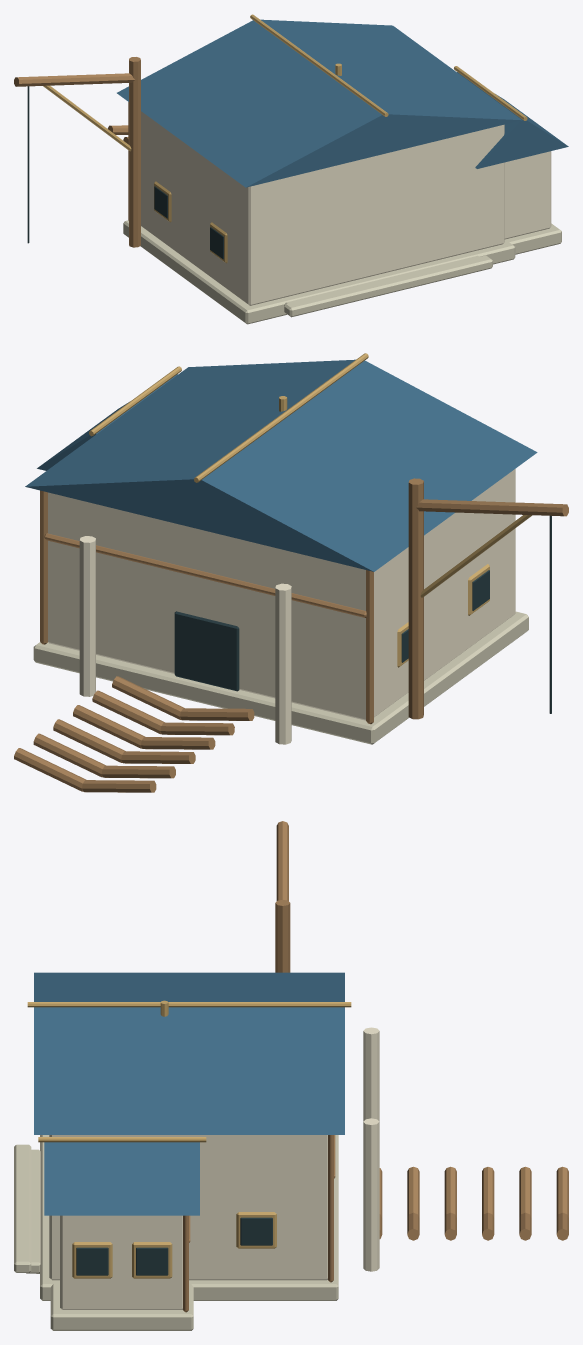
File: level_25.glb
3 renders of one model, top to bottom at view 1: azimuth 30°, elevation 25°; view 2: azimuth 150°, elevation 25°; view 3: azimuth 270°, elevation 25°, orthographic. The views are drawn at different scales.
Parts seen in each view (by area): view 1: shipyard — level 25; view 2: shipyard — level 25; view 3: shipyard — level 25.
Part boxes in pixels (x1,y1,x2,y2): shipyard — level 25: [14, 14, 568, 324]; shipyard — level 25: [14, 353, 568, 792]; shipyard — level 25: [14, 821, 568, 1330].
Size of the model in its own units: 10.13 by 4.41 by 8.92.
